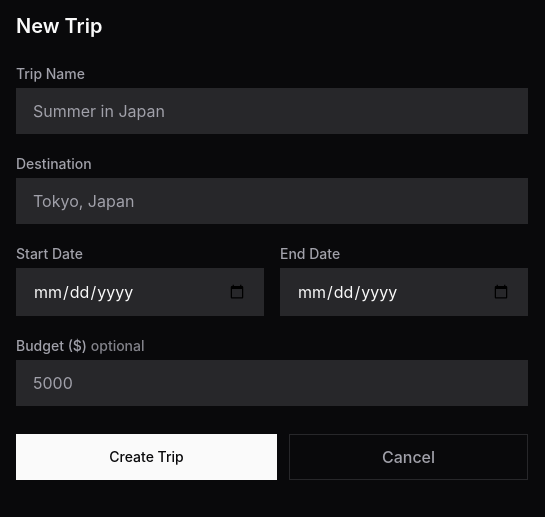
Test: CreateTrip shows error when name is missing
The width and height of the screenshot is (545, 517).
// Fill other fields but leave name empty
In the field labelled "Destination": (272, 201) [16,178,528,224], type "Paris"
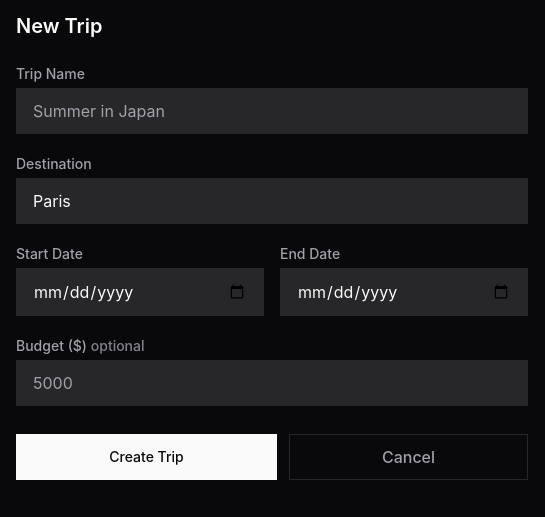
In the date field labelled "Start Date": (140, 292) [16,268,264,316], type "2026-05-01"
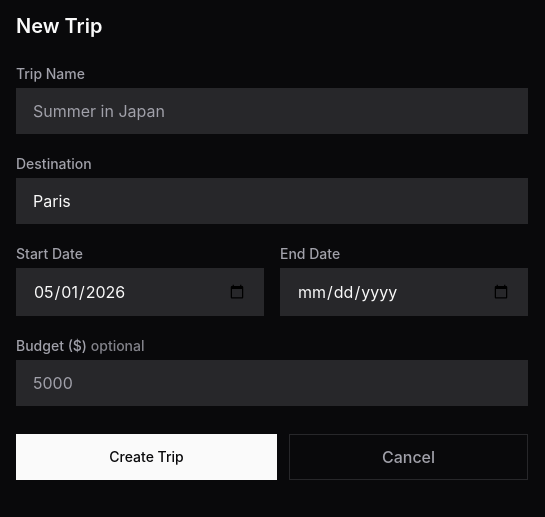
In the date field labelled "End Date": (404, 292) [280,268,528,316], type "2026-05-07"
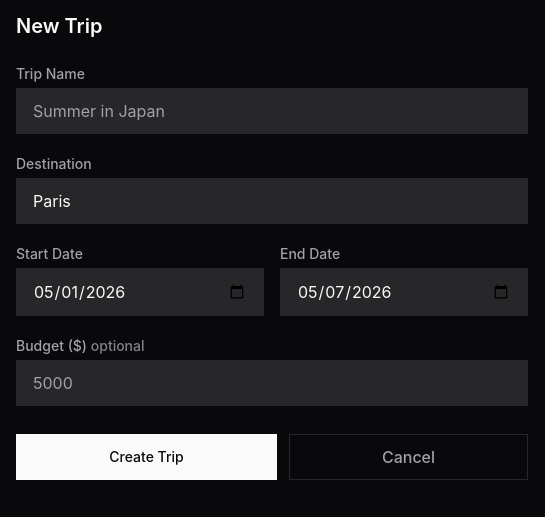
Click the button "Create Trip": (146, 457) [16,434,277,480]
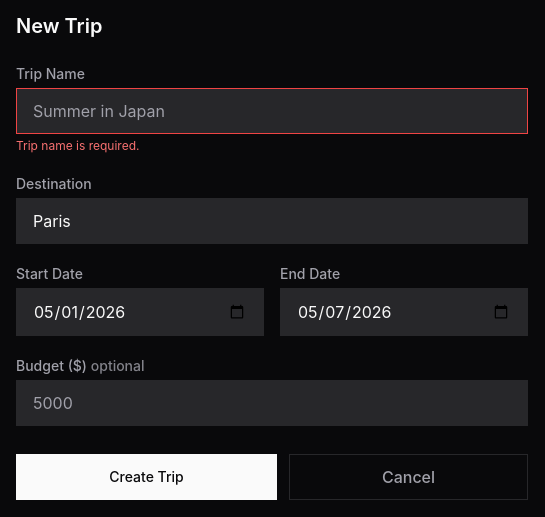
Check: the text "Trip name is required." is shown, box [16,138,140,153]
